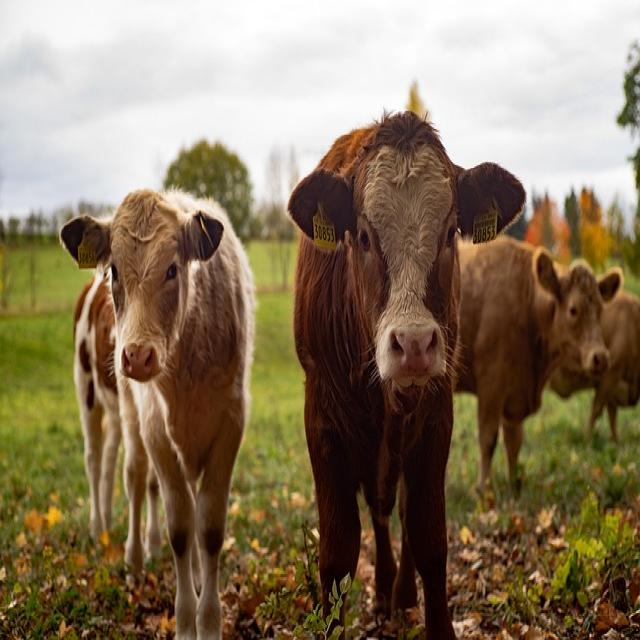Herbivorous: (289, 105, 505, 640), (58, 190, 260, 640), (457, 237, 640, 499)
